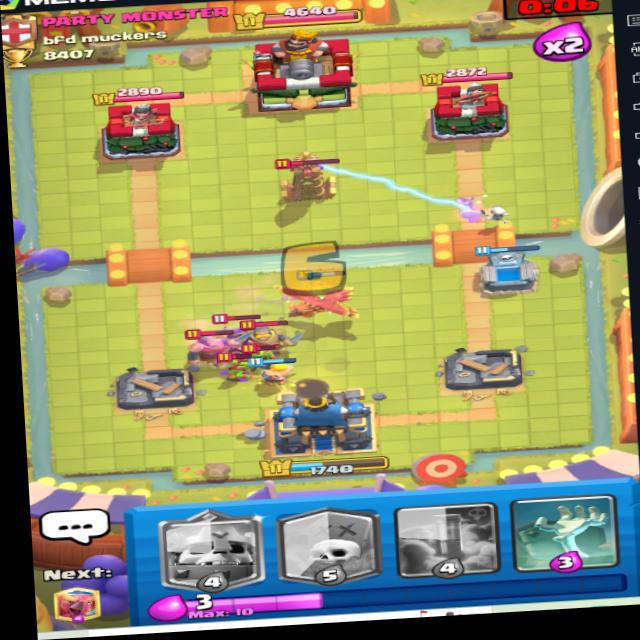archer-queen: (208, 307, 275, 368)
goblin: (200, 351, 256, 386), (245, 342, 284, 372)
knight: (224, 310, 307, 366), (177, 316, 245, 368)
tesla: (275, 139, 347, 206)
